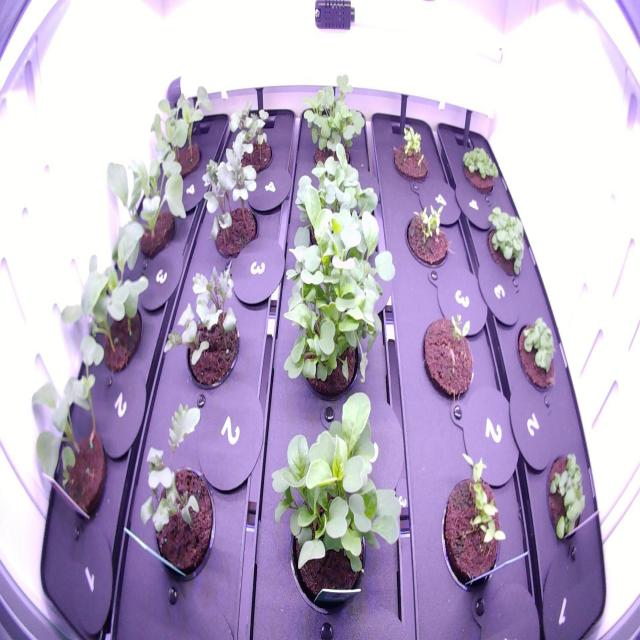germination: (434, 438, 511, 610), (414, 301, 482, 414), (539, 442, 590, 549), (398, 199, 456, 279), (513, 307, 562, 397), (386, 115, 434, 194), (458, 135, 504, 201)
